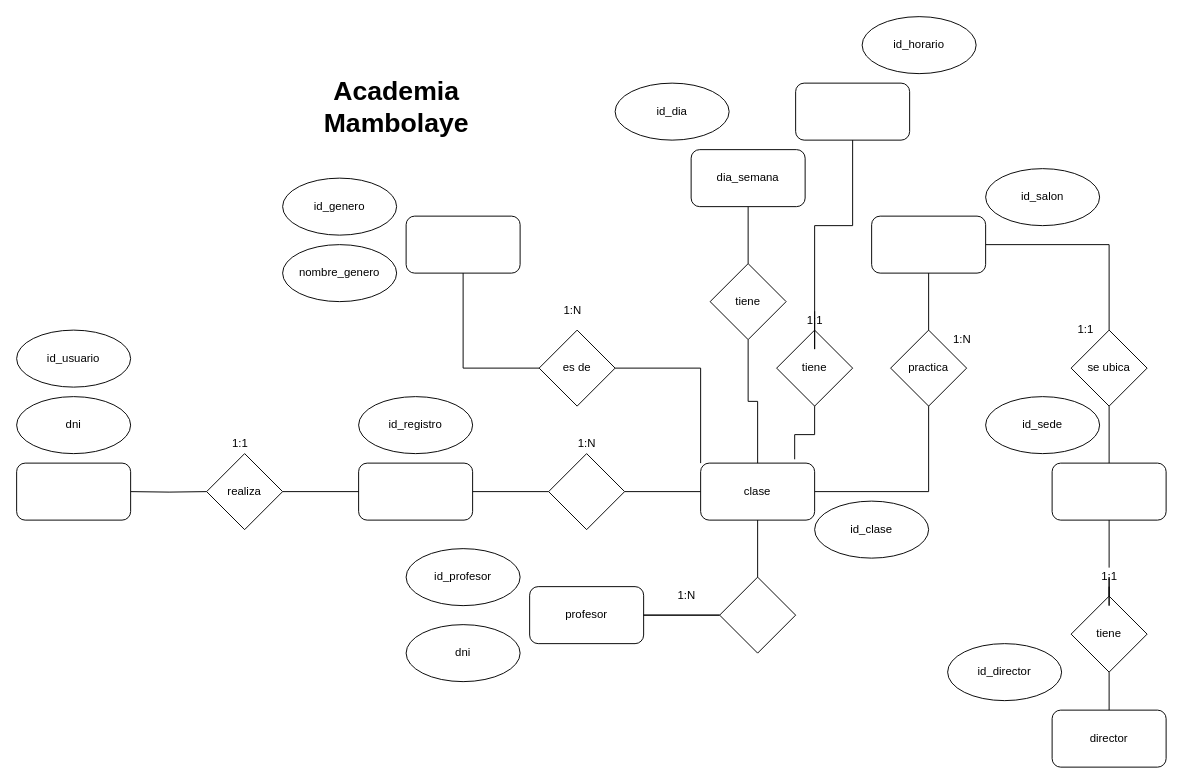
Some shapes in this 1183 by 784 pixel diagram are drawn without their labels. Here are the shapes that lost their labels. From the top down, the centre of each, then its label:
At pixel 852 111: "horario".
At pixel 462 244: "genero".
At pixel 928 244: "salon".
At pixel 73 491: "alumno".
At pixel 415 491: "registro".
At pixel 586 491: "relaciona".
At pixel 1108 491: "sede".
At pixel 757 614: "imparte".
